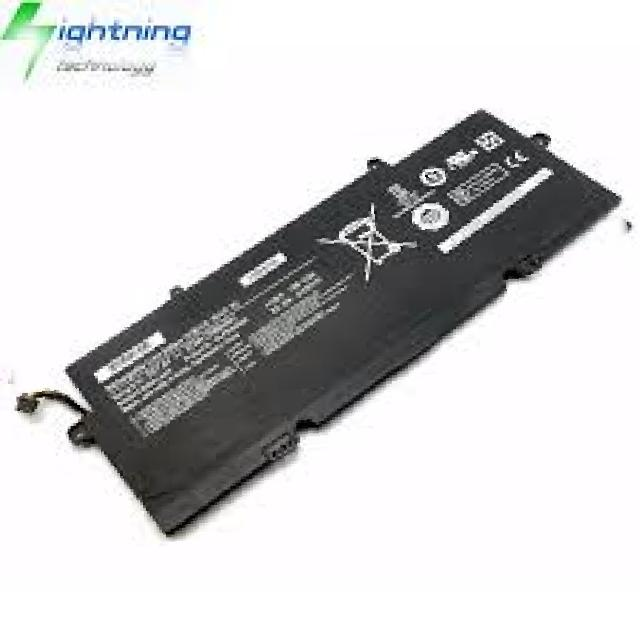Battery: (3, 34, 639, 557)
